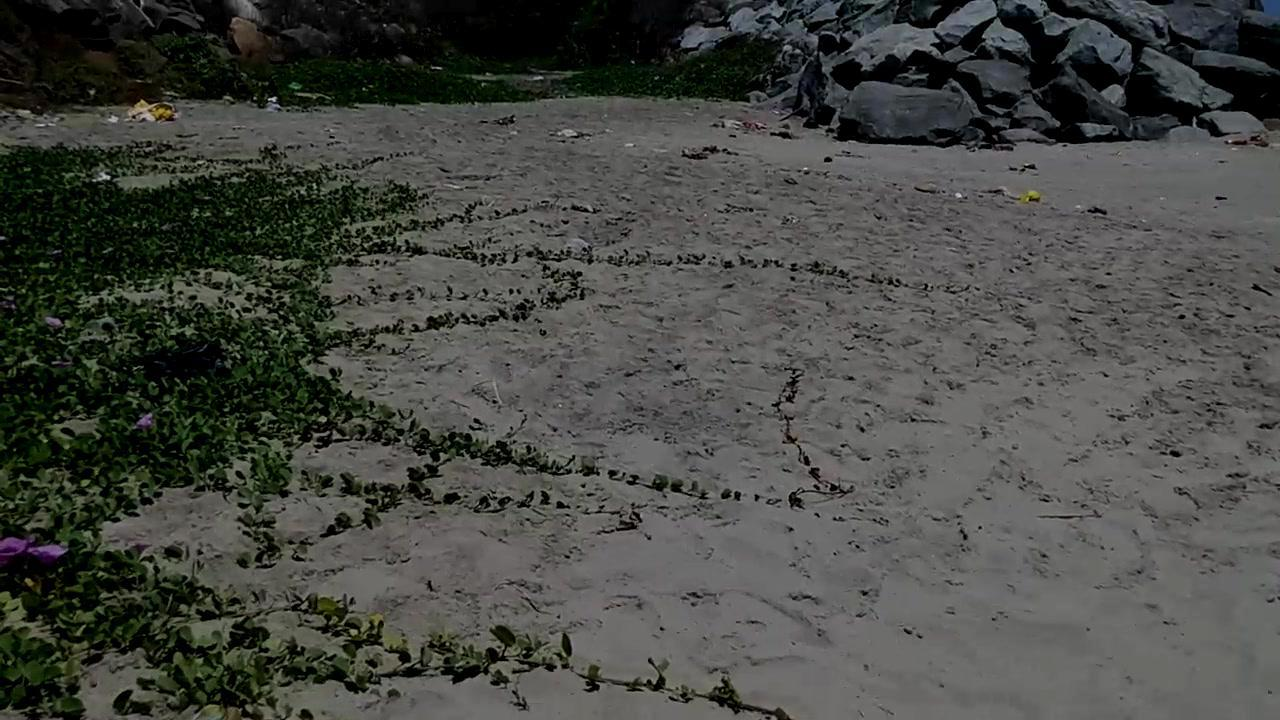obj: (0, 134, 909, 719), (138, 332, 226, 382), (0, 532, 67, 572), (127, 94, 182, 124), (679, 144, 738, 163), (986, 186, 1040, 206), (546, 128, 590, 138)
sand/background: (0, 0, 1279, 143)
